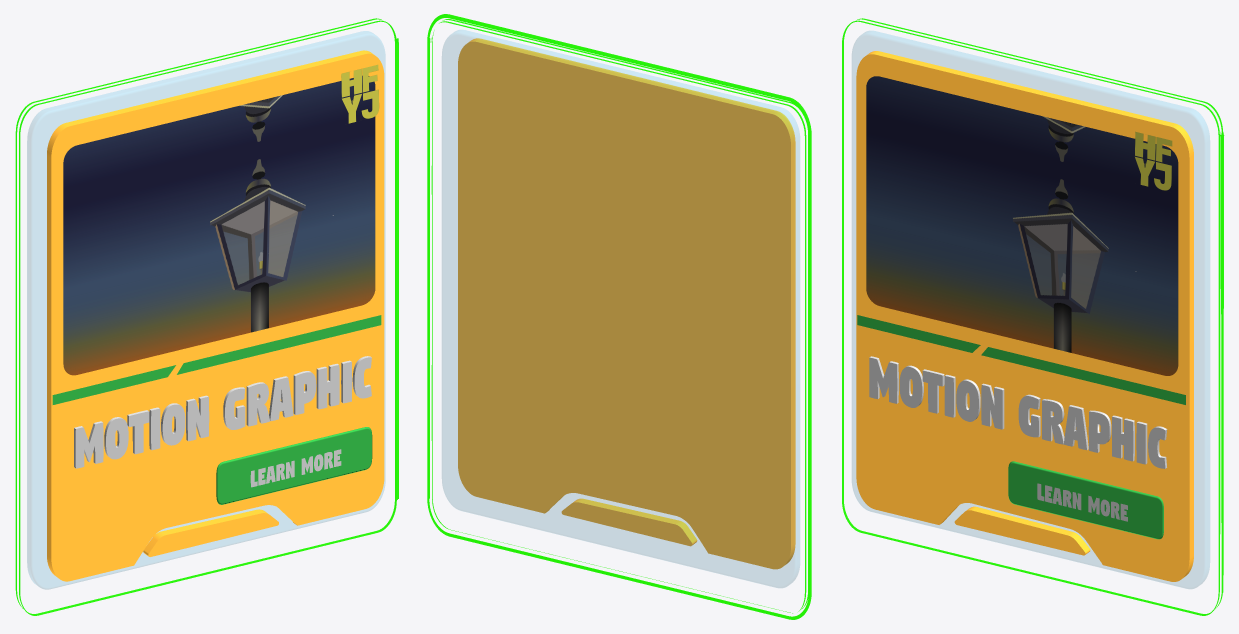
The model's file is motiongraphic.glb.
3 renders of one model, left to right at view 1: azimuth 30°, elevation 25°; view 2: azimuth 150°, elevation 25°; view 3: azimuth 330°, elevation 25°, orthographic.
Parts seen in each view (by area): view 1: lamppost scene-01.jpg, Boolean, Rectangle, Text, Rectangle 6, Rectangle 8, Shape, Rectangle 7, Logo V1.png, Rectangle 9, Text 3; view 2: Rectangle, Boolean, Rectangle 6, Shape; view 3: lamppost scene-01.jpg, Boolean, Rectangle, Text, Rectangle 6, Rectangle 8, Shape, Rectangle 7, Logo V1.png, Rectangle 9, Text 3.
Part boxes in pixels (x1=…): lamppost scene-01.jpg: x1=63, y1=75, x2=375, y2=375; Boolean: x1=47, y1=50, x2=384, y2=581; Rectangle: x1=27, y1=31, x2=384, y2=588; Text: x1=74, y1=356, x2=371, y2=468; Rectangle 6: x1=15, y1=18, x2=398, y2=615; Rectangle 8: x1=216, y1=427, x2=372, y2=504; Shape: x1=143, y1=509, x2=278, y2=556; Rectangle 7: x1=177, y1=315, x2=381, y2=374; Logo V1.png: x1=341, y1=64, x2=378, y2=123; Rectangle 9: x1=52, y1=365, x2=175, y2=404; Text 3: x1=250, y1=449, x2=341, y2=487; Rectangle: x1=442, y1=30, x2=799, y2=587; Boolean: x1=458, y1=38, x2=795, y2=569; Rectangle 6: x1=427, y1=14, x2=811, y2=619; Shape: x1=561, y1=498, x2=697, y2=546; lamppost scene-01.jpg: x1=866, y1=76, x2=1178, y2=375; Boolean: x1=856, y1=51, x2=1193, y2=581; Rectangle: x1=852, y1=31, x2=1209, y2=588; Text: x1=869, y1=356, x2=1167, y2=468; Rectangle 6: x1=842, y1=18, x2=1224, y2=615; Rectangle 8: x1=1008, y1=461, x2=1163, y2=539; Shape: x1=954, y1=506, x2=1090, y2=555; Rectangle 7: x1=981, y1=347, x2=1185, y2=404; Logo V1.png: x1=1135, y1=131, x2=1172, y2=190; Rectangle 9: x1=857, y1=315, x2=980, y2=352; Text 3: x1=1037, y1=483, x2=1127, y2=521.
Size of what is drawn, in the model's own units: 6.23 by 8.09 by 0.6278.
Materials: 8 (2 with a texture image).
